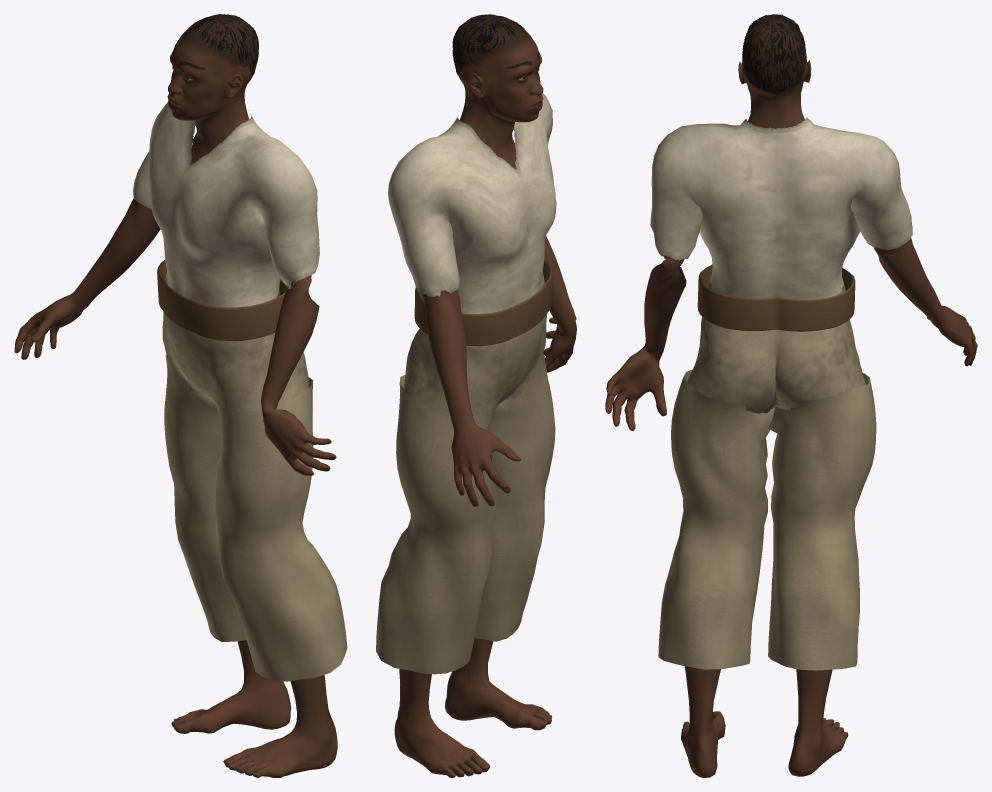
The model's file is SM_Art_Person_dockworker.gltf.
3 views of the same model, side by side, from view 1: azimuth 30°, elevation 25°; view 2: azimuth 150°, elevation 25°; view 3: azimuth 270°, elevation 25° (orthographic). The views are drawn at different scales.
Visible parts, largest first — view 1: SM_Art_Person_dockworker; view 2: SM_Art_Person_dockworker; view 3: SM_Art_Person_dockworker.
Part boxes in pixels (x1,y1,x2,y2): SM_Art_Person_dockworker: (14,14,347,777); SM_Art_Person_dockworker: (376,14,576,777); SM_Art_Person_dockworker: (605,14,977,777).
Bounding box in the file's own units: 0.5234 × 1.8 × 0.8413.
7 materials, 7 textured.
